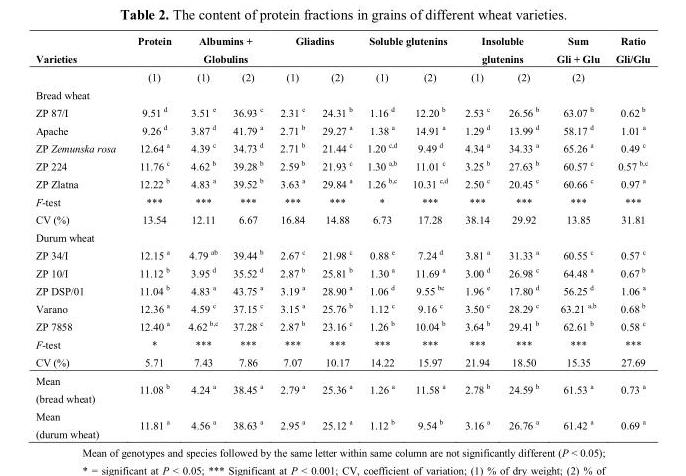table: (34, 34, 649, 439)
table column: (34, 34, 125, 439), (547, 34, 607, 439), (125, 34, 179, 439), (404, 34, 455, 439), (498, 34, 547, 439), (312, 34, 359, 439), (224, 34, 270, 439), (179, 34, 224, 439), (359, 34, 404, 439), (455, 34, 498, 439), (270, 34, 312, 439), (607, 34, 649, 439)
table column header: (34, 34, 649, 85)
table projected row header: (34, 85, 649, 102), (34, 228, 649, 245)
table row: (34, 371, 649, 406), (34, 34, 649, 67), (34, 406, 649, 439), (34, 173, 649, 192), (34, 316, 649, 335), (34, 352, 649, 371), (34, 67, 649, 85), (34, 102, 649, 120), (34, 120, 649, 138), (34, 138, 649, 156), (34, 192, 649, 210), (34, 210, 649, 228), (34, 245, 649, 263), (34, 280, 649, 298), (34, 298, 649, 316), (34, 85, 649, 102), (34, 156, 649, 173), (34, 228, 649, 245), (34, 263, 649, 280), (34, 335, 649, 352)
table spanning cell: (34, 34, 125, 85), (359, 34, 455, 67), (547, 34, 607, 85), (455, 34, 547, 67), (179, 34, 270, 67), (270, 34, 359, 67), (125, 34, 179, 85), (607, 34, 649, 85)
